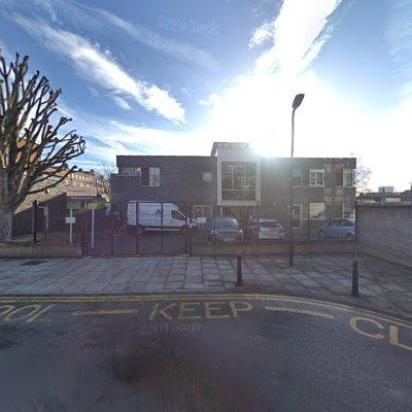stationary-car-offstreet: (206, 213, 244, 247), (246, 218, 286, 244), (317, 218, 359, 242)
stationary-light-truck-offstreet: (126, 198, 196, 238)
